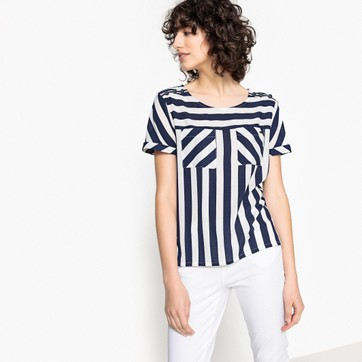C_W_pants: (169, 263, 287, 362)
C_short blouse: (142, 84, 293, 269)
